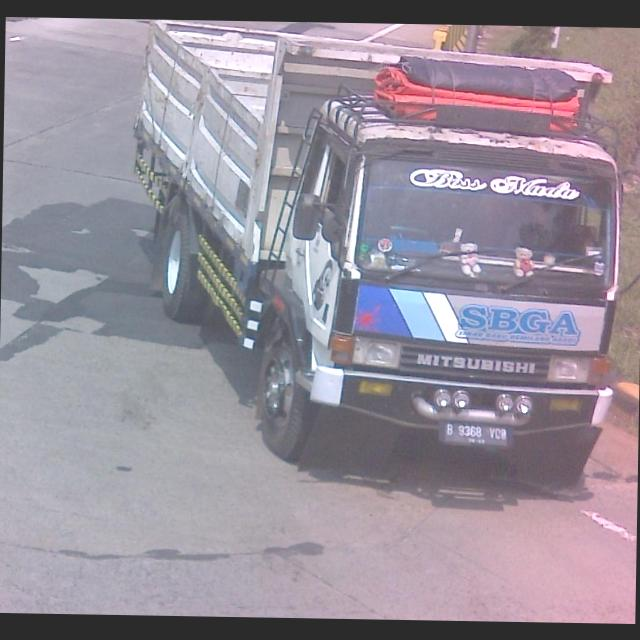plate: (440, 416, 514, 448)
